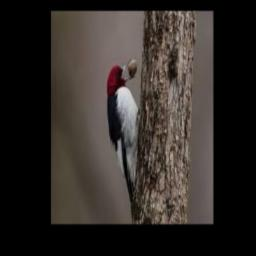Woodpecker: (107, 58, 140, 221)
